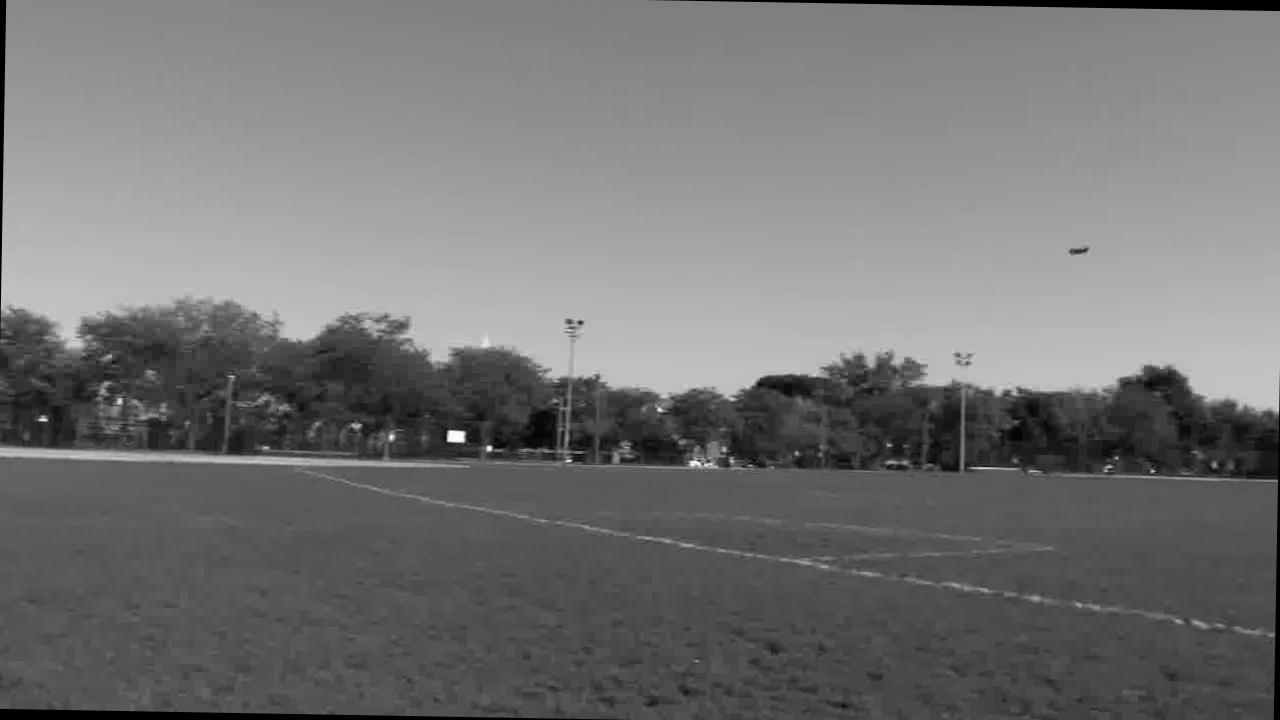drone: (1065, 236, 1098, 263)
